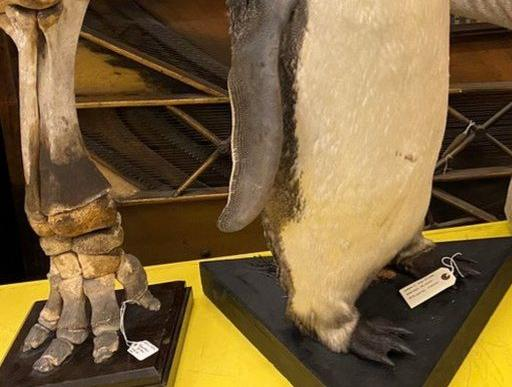Emperor Penguin: (195, 0, 496, 357)
